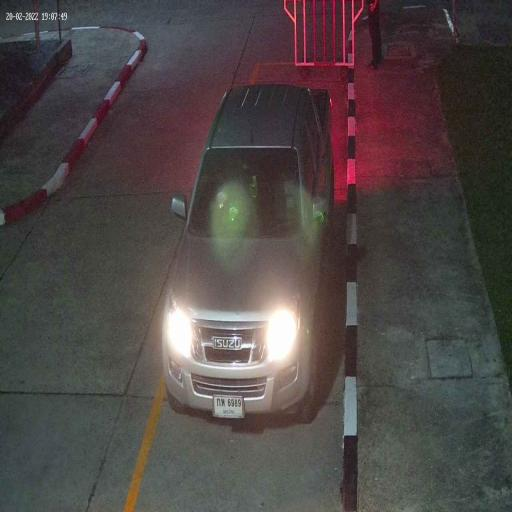car: (162, 85, 335, 426)
